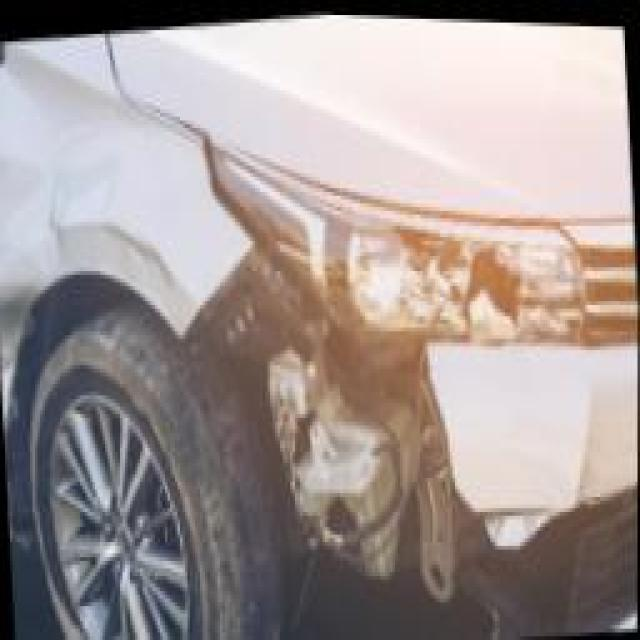Bumper: (265, 309, 639, 638)
Fender: (35, 120, 241, 350)
Light: (270, 158, 578, 376)
